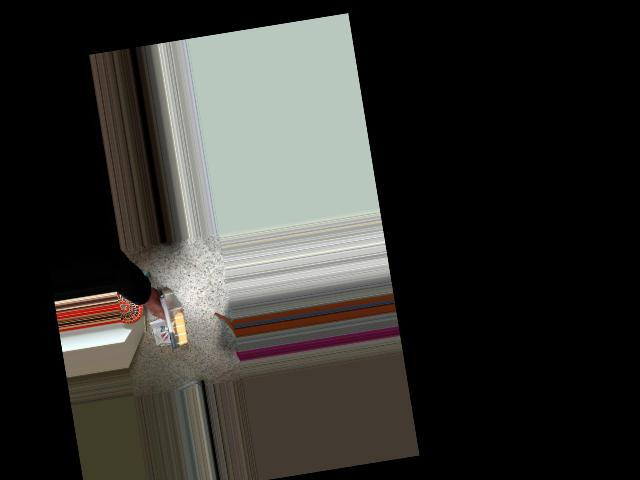cheese: (146, 286, 196, 352)
